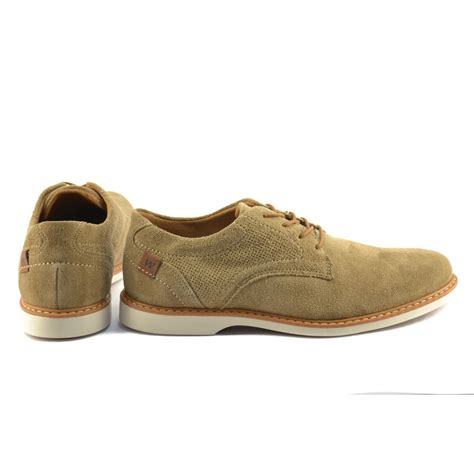gamuza: (19, 181, 454, 321)
